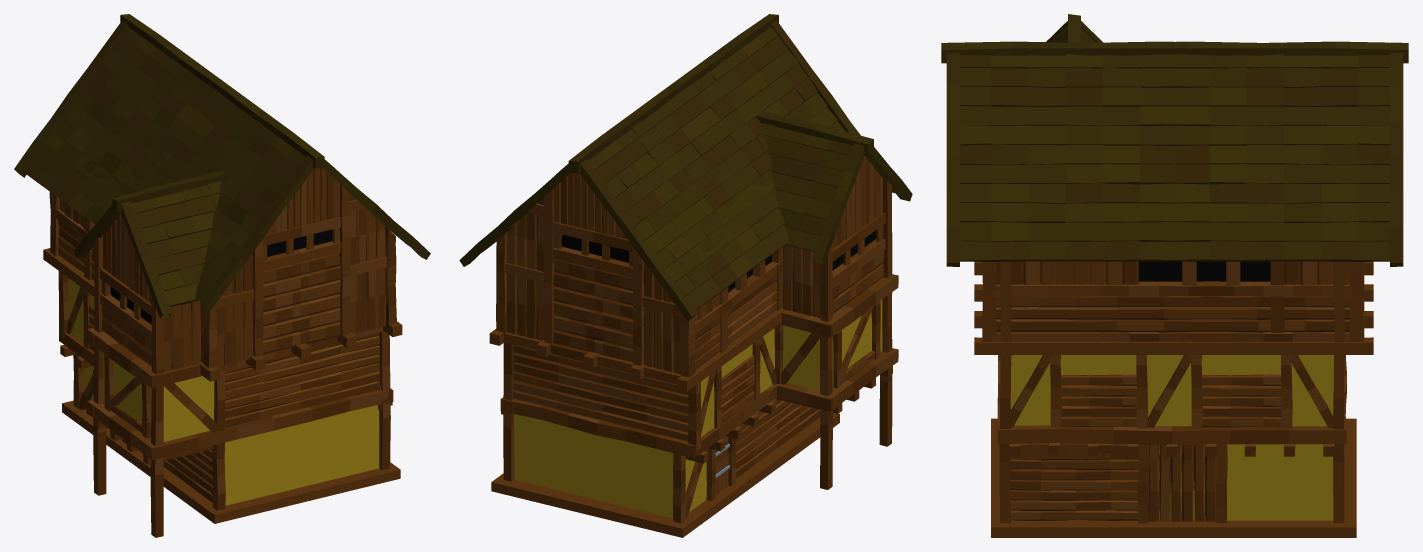
The model's file is castle_town_house_8.fbx.
The picture shows the model from 3 angles, left to right: view 1: azimuth 30°, elevation 25°; view 2: azimuth 150°, elevation 25°; view 3: azimuth 270°, elevation 25°; orthographic projection. The views are drawn at different scales.
Visible parts, largest first — view 1: house 8; view 2: house 8; view 3: house 8.
Boxes of the visible parts, x1,y1,x2,y2 form: house 8: (14,14,430,537); house 8: (459,14,912,537); house 8: (941,14,1408,537).
Bounding box in the file's own units: 8405 × 8710 × 6537.
